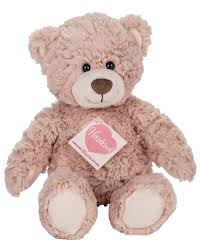teddy: (5, 6, 198, 242)
